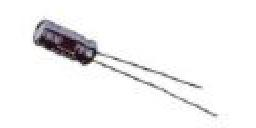Electrolytic-Capacitor: (31, 16, 227, 122)
